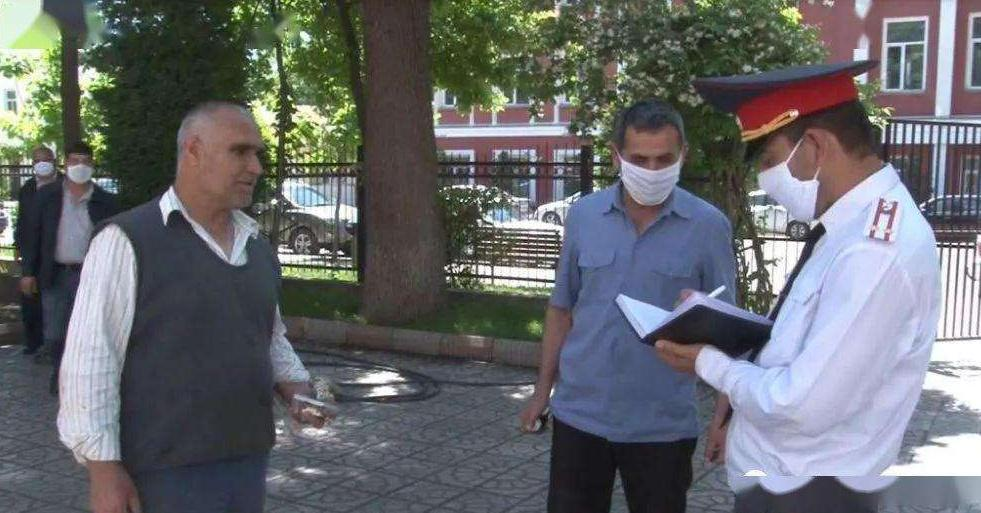NONE: (209, 127, 264, 209)
OK: (757, 139, 819, 223), (622, 141, 680, 208), (68, 155, 92, 184), (35, 155, 54, 177)
